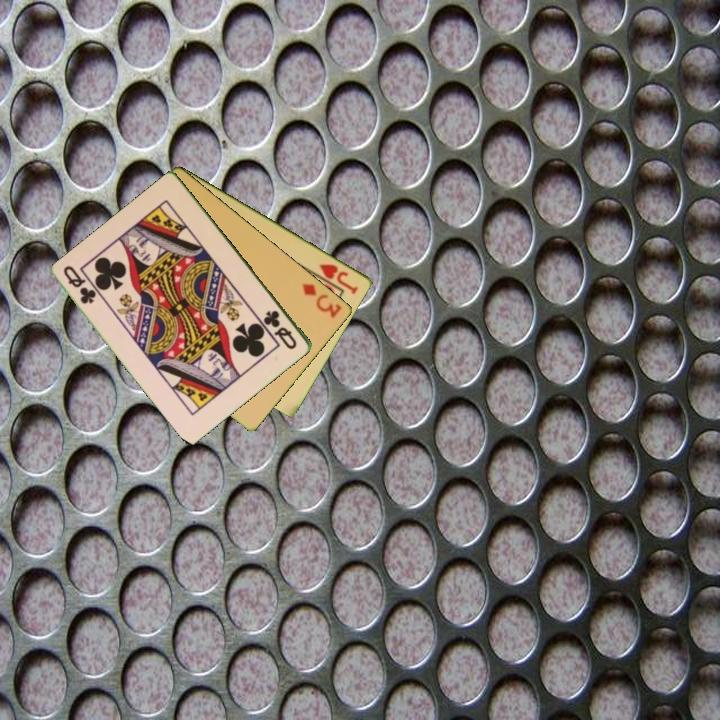3d: (299, 280, 345, 321)
Jh: (316, 260, 361, 297)
Qc: (260, 307, 300, 352), (60, 262, 99, 307)
